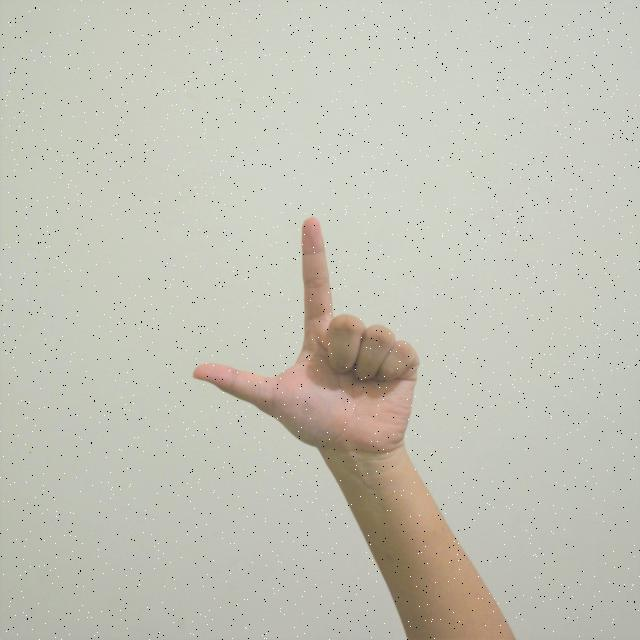L: (183, 207, 429, 468)
